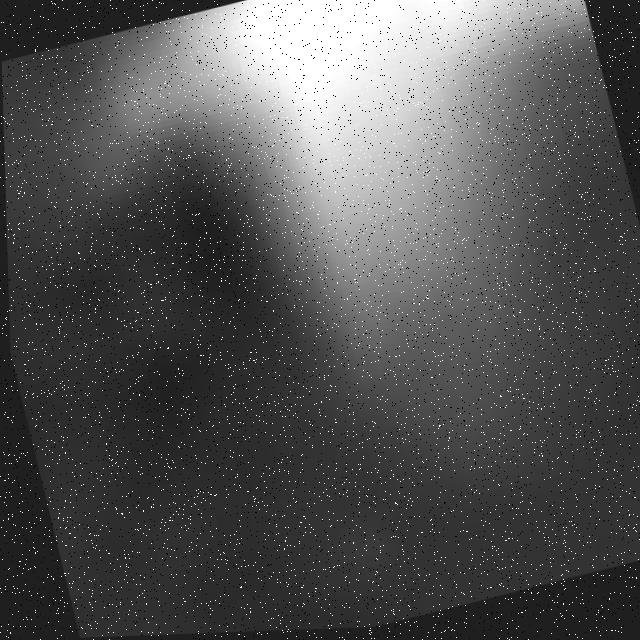person: (194, 1, 561, 428)
